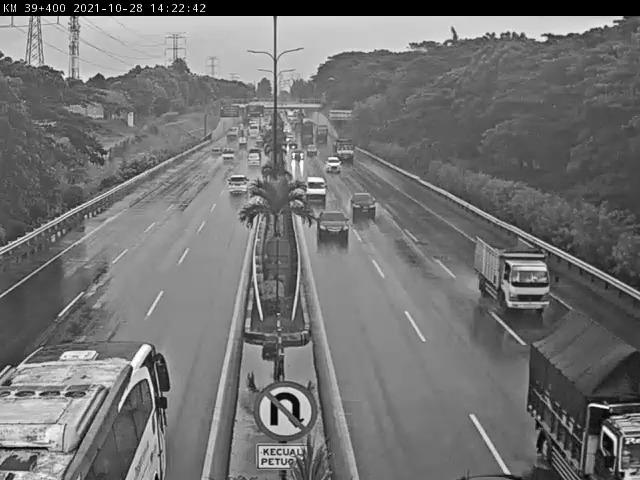big bus: (0, 335, 167, 480)
car: (315, 208, 349, 238), (350, 192, 377, 217), (226, 174, 249, 195), (305, 177, 326, 200), (325, 155, 342, 173), (245, 153, 262, 168)
truck-s-: (531, 311, 640, 480), (473, 230, 551, 316)
